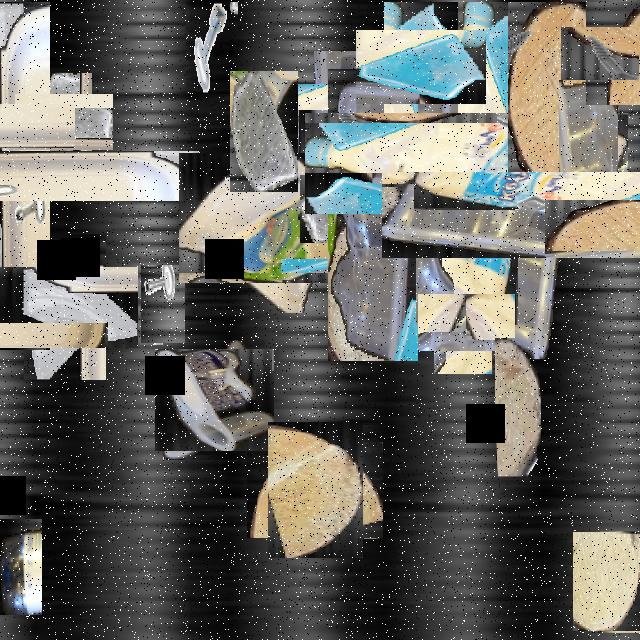glass: (8, 250, 122, 364), (370, 16, 472, 119), (230, 71, 298, 192), (25, 84, 103, 161)
metal: (422, 282, 503, 362), (573, 14, 640, 92), (186, 2, 238, 94), (0, 88, 60, 163), (141, 265, 185, 343), (396, 174, 438, 249)
plastic: (361, 57, 573, 270), (430, 122, 616, 308), (328, 69, 418, 361), (193, 139, 353, 298), (0, 76, 124, 275), (158, 344, 270, 456), (0, 519, 42, 615)
wood: (508, 2, 618, 194), (298, 68, 426, 196), (257, 432, 373, 548), (573, 532, 640, 631), (495, 338, 541, 476)
